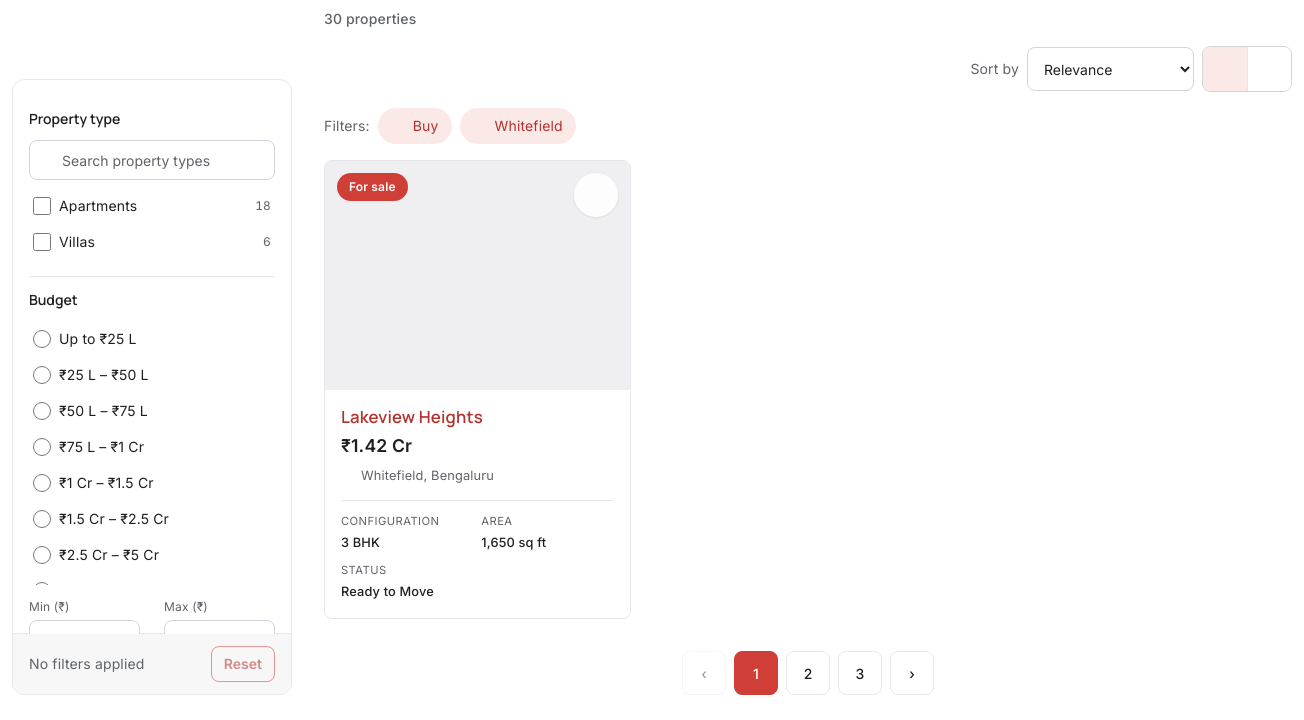
an embedded engine › keeps its filters out of the page’s query string and pages through `?p=`
Click the button named "Page 2" at (808, 673), box [786,651,830,695]
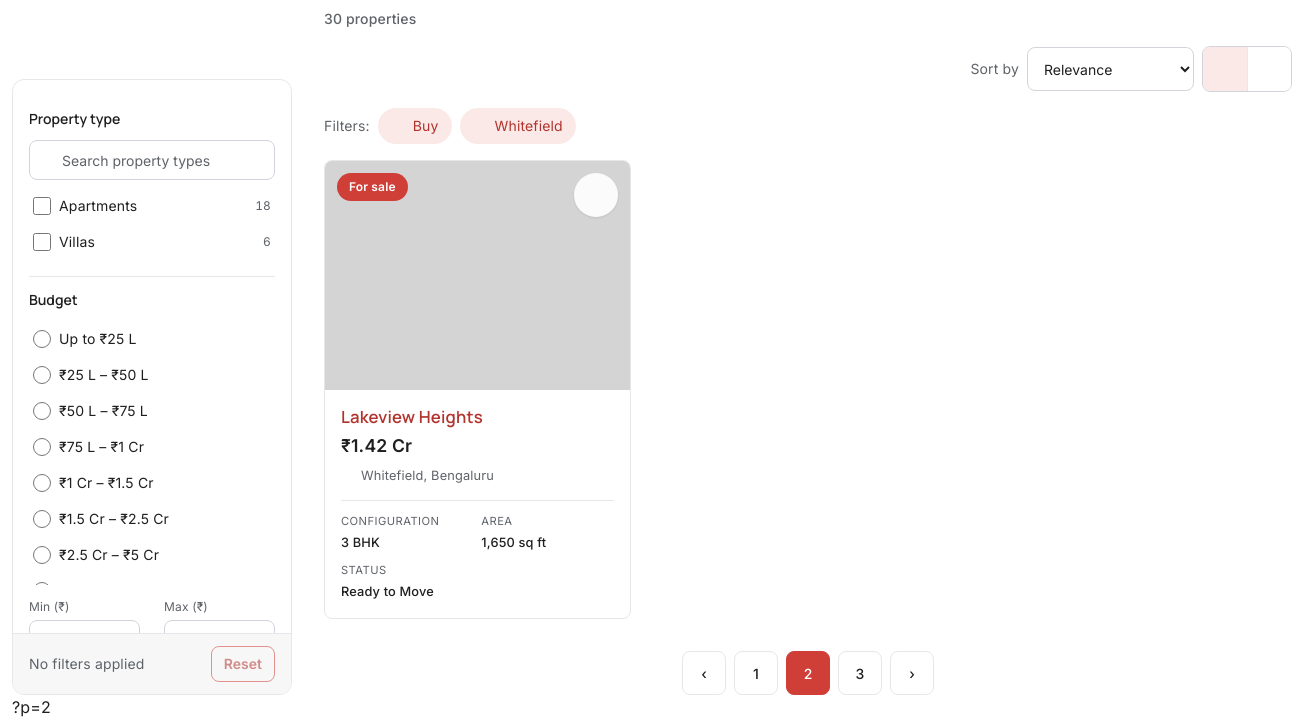
Expected: the text with test id "search" shows "p=2", [12,697,51,717]
